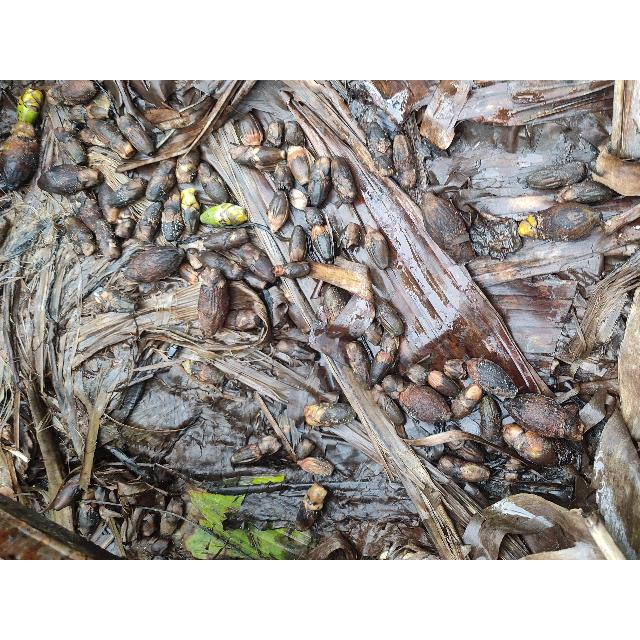damaged: (478, 286, 580, 352), (469, 244, 603, 288), (518, 204, 606, 242), (454, 120, 534, 156), (0, 122, 38, 192), (458, 192, 560, 218), (37, 164, 101, 196), (524, 159, 588, 189), (197, 272, 229, 332), (400, 384, 442, 426), (295, 482, 327, 532), (116, 114, 154, 156), (73, 190, 107, 236), (556, 180, 616, 206), (62, 214, 98, 256), (231, 435, 281, 465), (102, 178, 148, 210), (114, 378, 148, 420), (146, 158, 178, 202), (198, 226, 252, 252), (438, 455, 488, 483), (130, 200, 162, 243), (330, 155, 356, 207), (372, 385, 404, 427), (232, 146, 288, 170), (198, 162, 230, 204), (451, 382, 484, 422), (304, 402, 354, 428), (48, 80, 98, 106), (392, 134, 416, 188), (53, 128, 89, 164), (374, 295, 406, 335), (182, 359, 224, 389), (514, 481, 574, 502), (307, 156, 331, 208), (478, 396, 504, 444), (161, 193, 185, 243), (48, 478, 82, 512), (366, 222, 390, 270), (88, 288, 136, 312), (287, 144, 313, 188), (200, 202, 244, 228), (160, 494, 186, 538), (195, 248, 239, 274), (346, 342, 370, 386), (94, 220, 120, 260), (244, 251, 276, 283), (275, 339, 317, 363), (267, 190, 289, 234), (130, 536, 174, 558), (311, 220, 334, 262), (174, 150, 200, 187), (323, 285, 347, 325), (447, 439, 487, 463), (369, 348, 395, 384), (76, 502, 102, 538), (426, 370, 459, 398), (234, 114, 262, 146), (142, 108, 190, 126), (296, 456, 334, 478), (444, 239, 476, 265), (367, 122, 391, 156), (370, 150, 394, 184), (223, 308, 260, 330), (98, 504, 126, 532), (237, 242, 266, 268), (289, 224, 307, 264), (377, 328, 399, 360), (502, 422, 528, 448), (338, 222, 362, 250), (415, 132, 439, 160), (132, 161, 162, 183), (114, 213, 138, 240), (382, 374, 408, 398), (178, 260, 202, 286), (283, 121, 305, 149), (263, 121, 285, 149), (276, 262, 310, 280), (364, 316, 384, 346), (498, 456, 528, 476), (182, 202, 200, 235), (357, 104, 378, 132), (274, 164, 294, 193), (406, 361, 430, 385), (138, 510, 158, 538), (444, 358, 468, 380), (294, 438, 316, 460), (289, 187, 309, 211), (304, 206, 324, 230), (185, 248, 205, 272), (68, 104, 92, 124), (277, 414, 293, 444), (82, 104, 110, 120), (180, 188, 200, 210), (54, 126, 74, 144)
